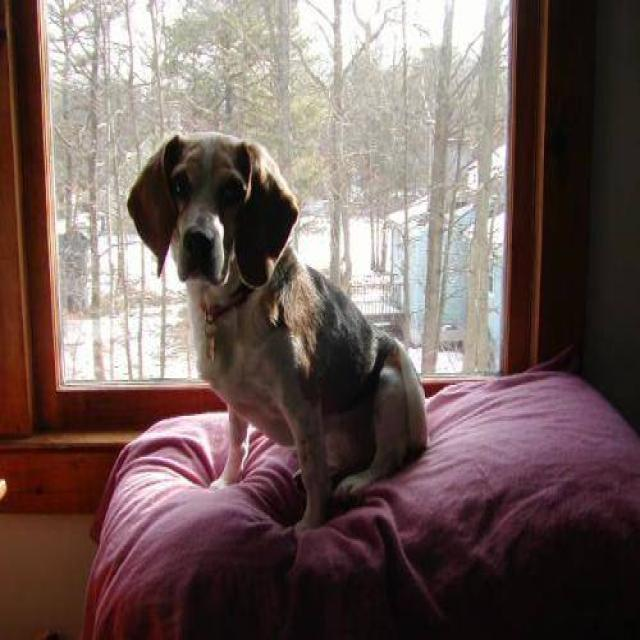dog: (125, 130, 429, 532)
